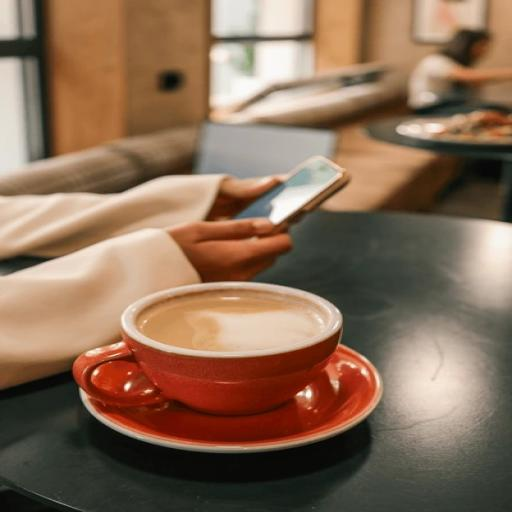bottle: (230, 155, 352, 238)
phone: (72, 281, 344, 417)
